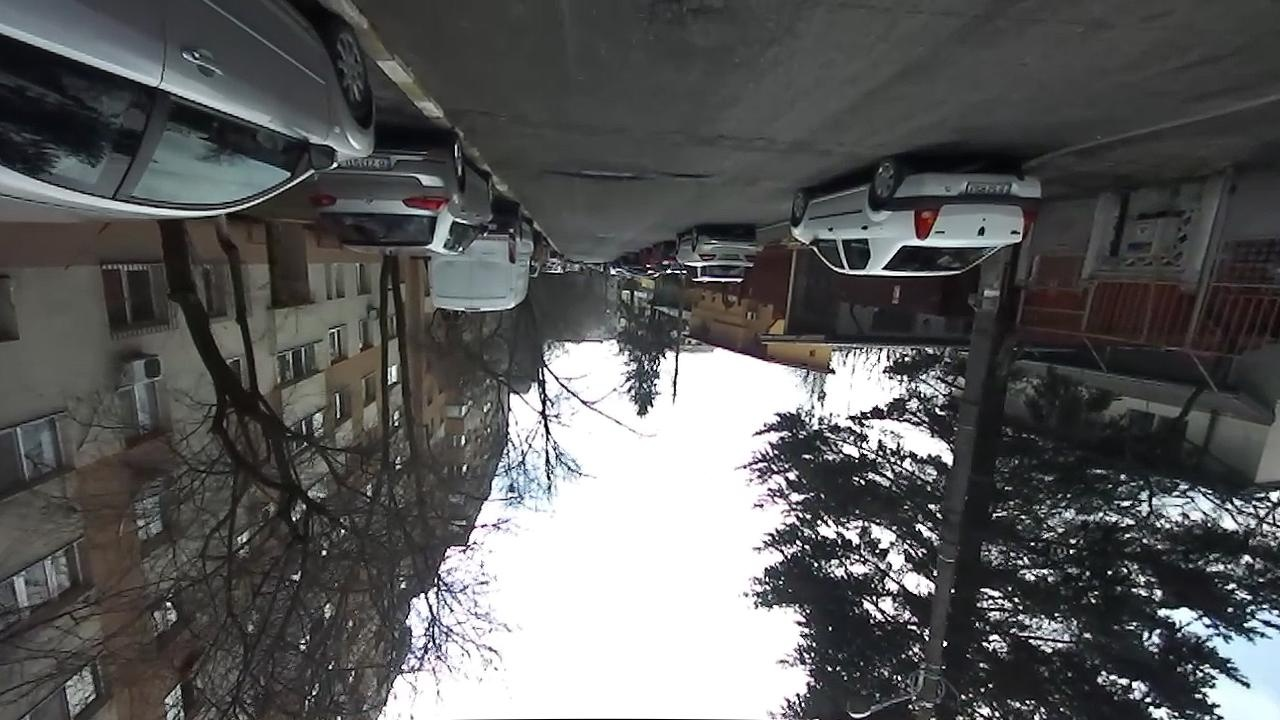pothole: (544, 163, 650, 186), (662, 164, 715, 185)
